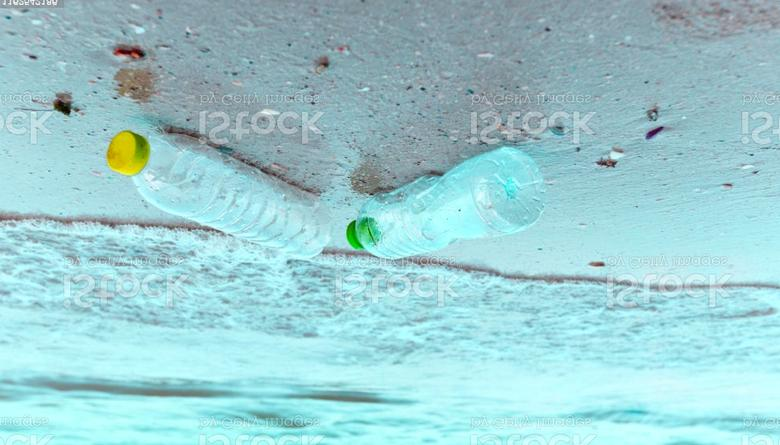Plastic: (106, 97, 334, 266), (343, 126, 551, 269)
